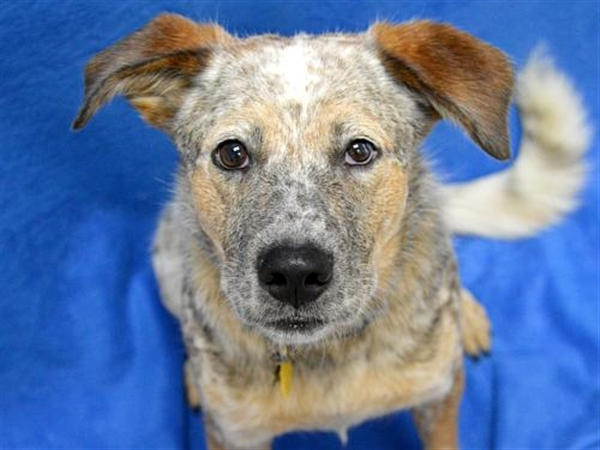dog: (79, 11, 579, 449)
